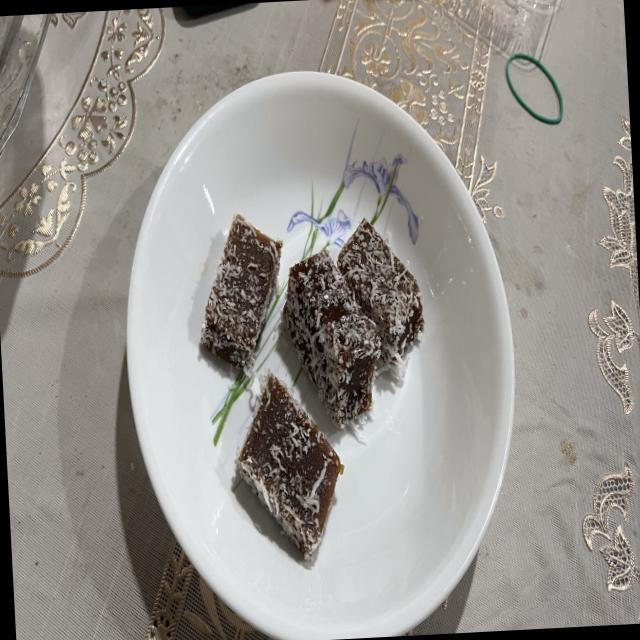kaswi: (236, 374, 343, 559), (283, 251, 381, 428), (201, 215, 282, 369), (337, 220, 424, 363)
